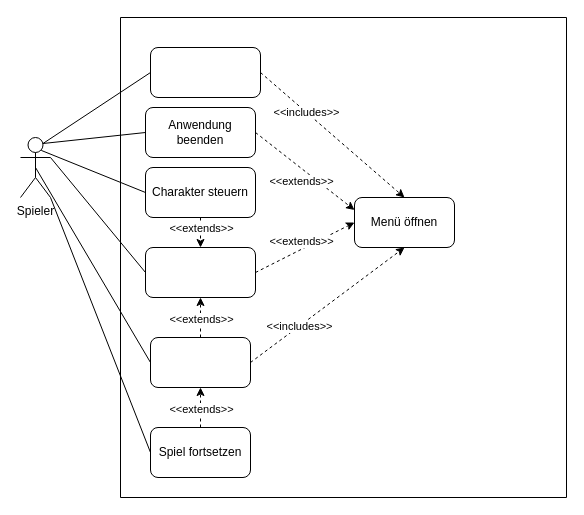
The diagram is 584 pixels wide and 515 high, and some of its shapes have lost their labels. The shapes that lost their labels are listed below. From the top down, each one's centre as x and y in pixels, then its label:
At (x=205, y=72): "Anwendung starten".
At (x=200, y=272): "Neues Spiel starten".
At (x=200, y=362): "Spiel pausieren".
